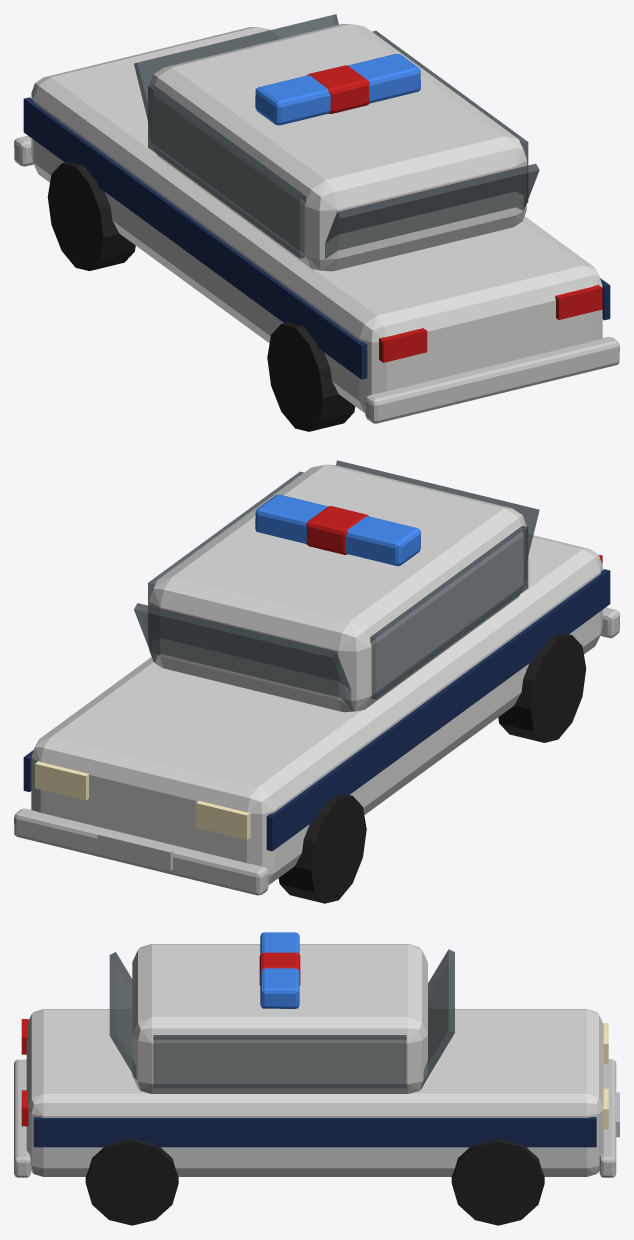
File: oto_p.glb
3 renders of one model, top to bottom at view 1: azimuth 30°, elevation 25°; view 2: azimuth 150°, elevation 25°; view 3: azimuth 270°, elevation 25°, orthographic. The views are drawn at different scales.
Visible parts, largest first — view 1: ArkaCam; view 2: ArkaCam; view 3: ArkaCam.
Part boxes in pixels (x1,y1,x2,y2): ArkaCam: (14,14,619,431); ArkaCam: (14,460,619,903); ArkaCam: (14,932,619,1225).
Bounding box in the file's own units: 0.36 × 0.333 × 0.861.
